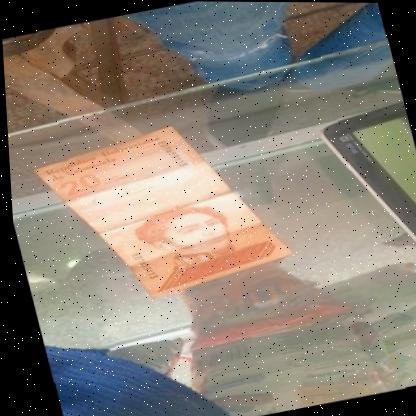vef_front: (24, 107, 297, 316)
